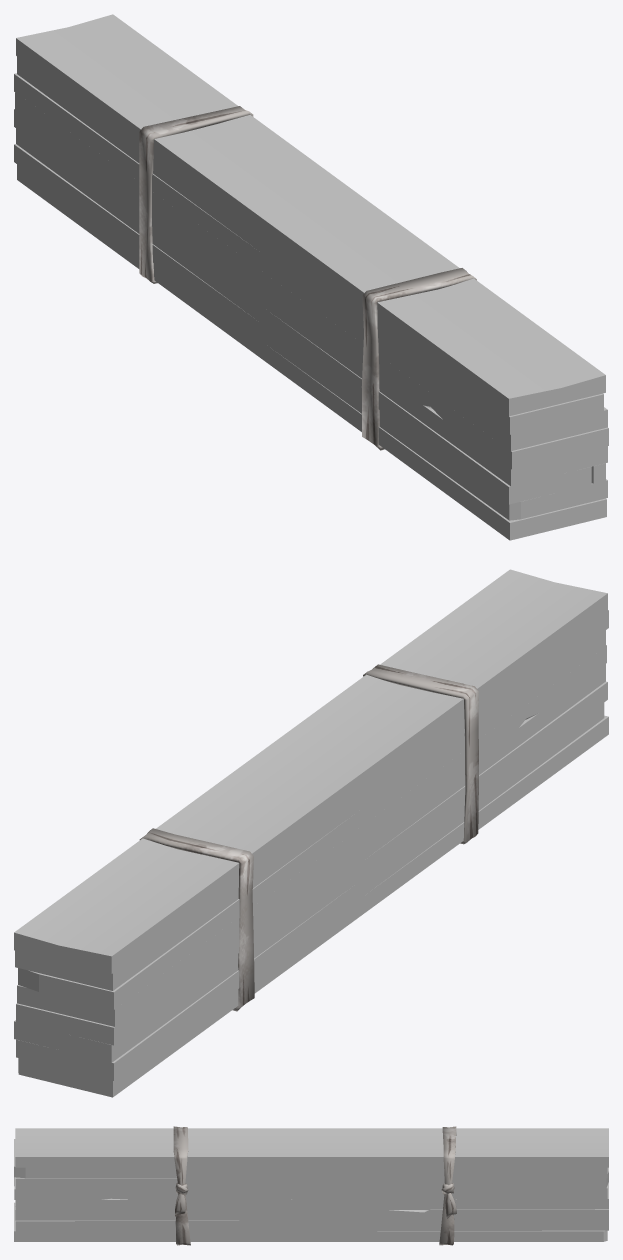
The model's file is bundleOfPlanks.fbx.
The picture shows the model from 3 angles, top to bottom: view 1: azimuth 30°, elevation 25°; view 2: azimuth 150°, elevation 25°; view 3: azimuth 270°, elevation 25°; orthographic projection. The views are drawn at different scales.
Parts seen in each view (by area): view 1: bundleOfPlanks; view 2: bundleOfPlanks; view 3: bundleOfPlanks.
Boxes of the visible parts, x1,y1,x2,y2 form: bundleOfPlanks: (14,14,608,540); bundleOfPlanks: (14,569,608,1097); bundleOfPlanks: (14,1126,608,1245).
Bounding box in the file's own units: 32.41 × 41.6 × 247.
